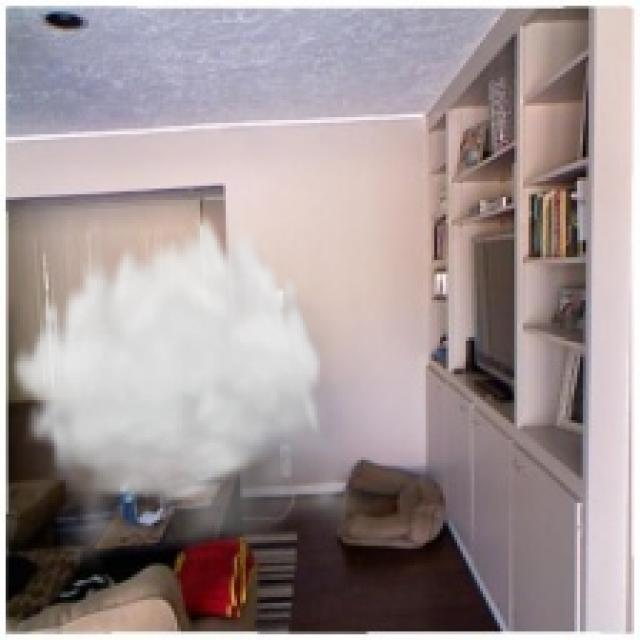smoke: (9, 206, 392, 574)
